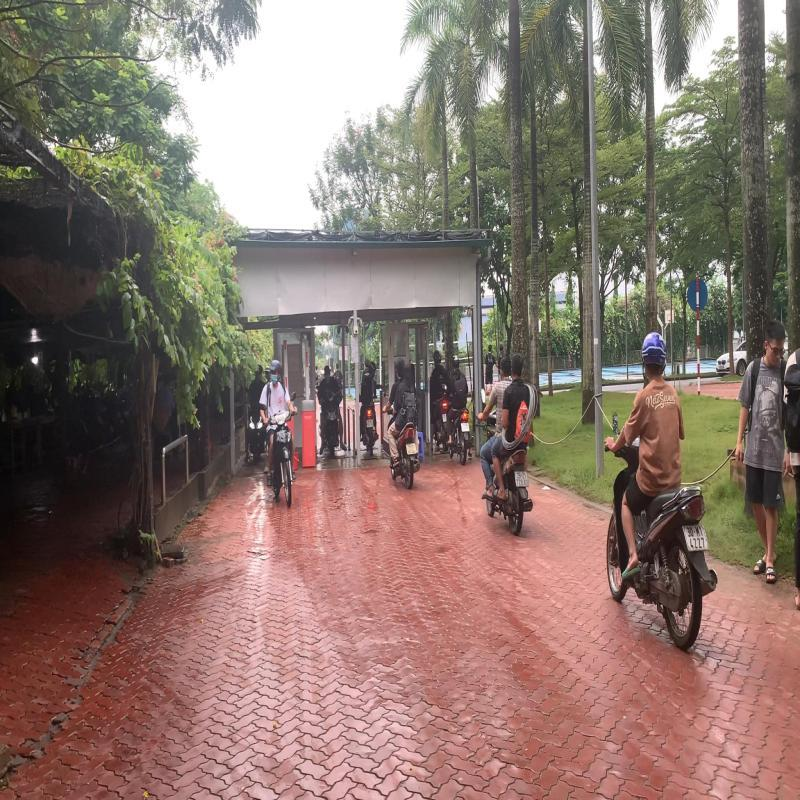nohelmet: (510, 353, 524, 378), (500, 354, 511, 376)
